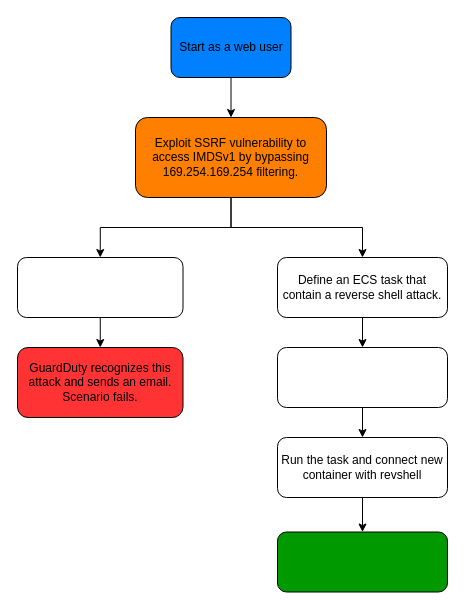
Image size: 465x610. Some labels were removed from this diagram. Each missing label, with the box of its shape:
Access S3 and read the Secret String. Scenario success.: (276, 531, 448, 592)
Access S3 directly with the credentials.: (16, 256, 183, 318)
Prepare another endpoint for the reverse shell attack.: (276, 346, 448, 408)
